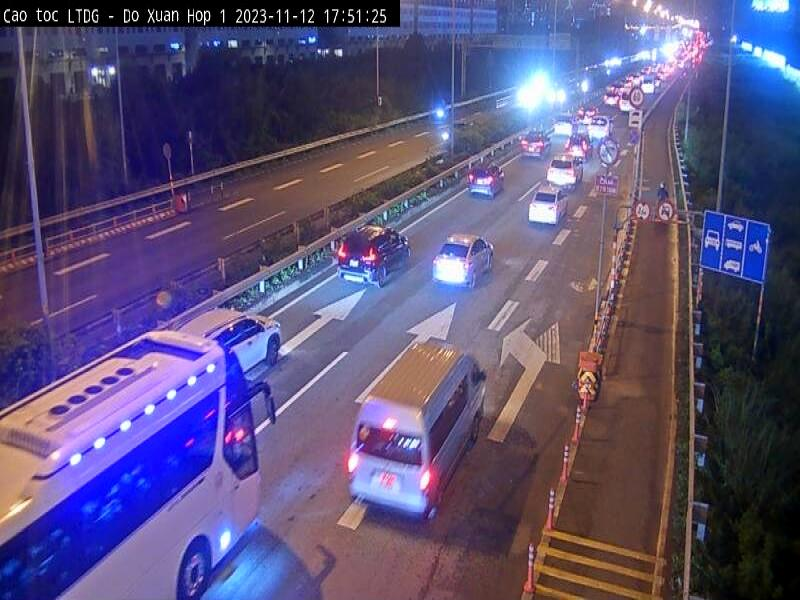bus: (0, 329, 278, 600)
